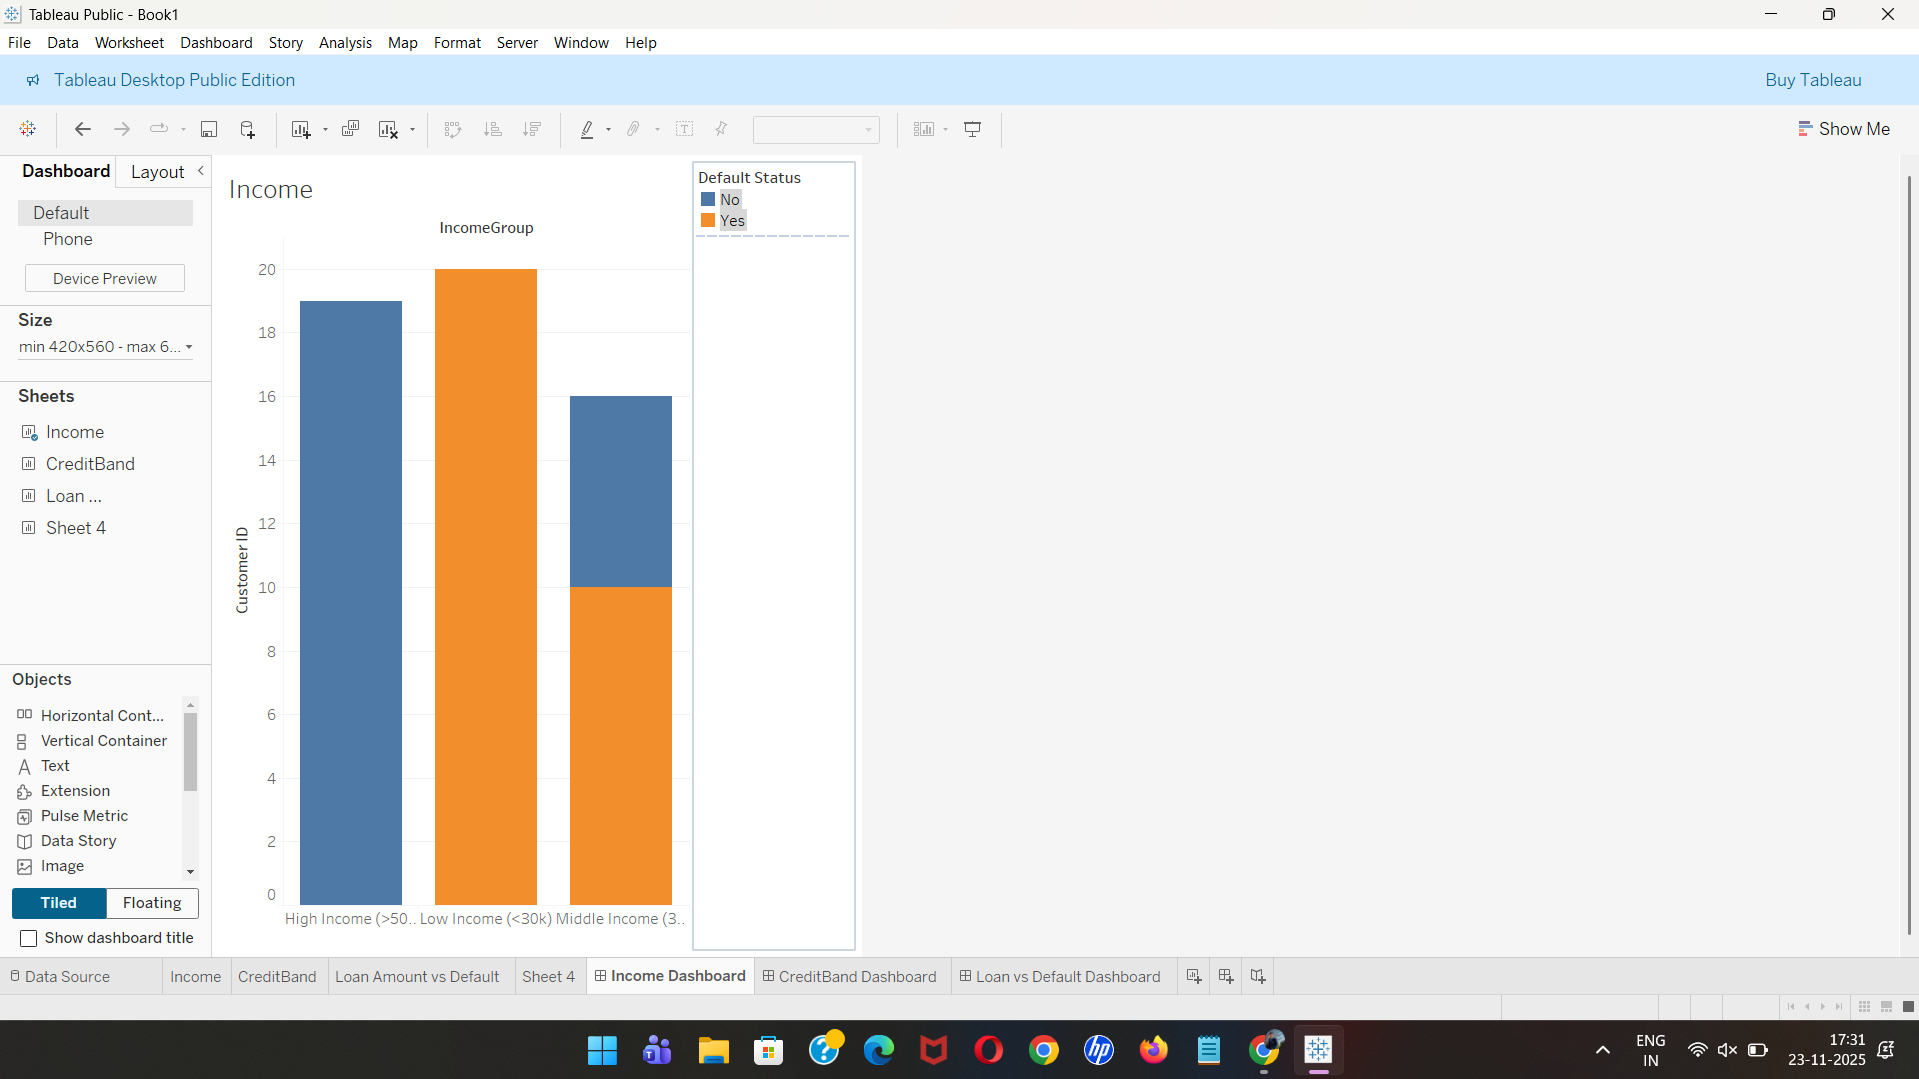

Layout of this report page (visuals, bound fields, positions):
{"tool":"tableau","page":{"name":"Income Dashboard","canvas":[650,860],"ordinal":1},"visuals":[{"type":"worksheet","title":"Income","mark":"Bar","rows":["CustomerID"],"cols":["Calculation_595319585119305728"],"box":[8,8.6,474,842.8]},{"type":"legend","title":"Income","param":"[federated.1nku3n11mbzdj61bmsmut0y6azl3].[none:DefaultStatus:nk]","box":[482,8.6,160,77.2]}]}

Visuals, with their boxes on the page's 650x860 design canvas (x1, y1, x2, y2). These are canvas units, not pixel positions in the 1919x1079 screenshot, which may show the page scaled, cropped or inside an application window:
"Income" worksheet (Bar marks): 8, 9, 482, 851
"Income" legend: 482, 9, 642, 86
